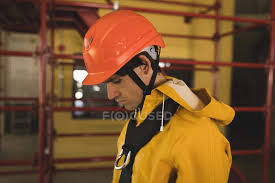Person_wearing_helmet: (74, 5, 169, 76)
